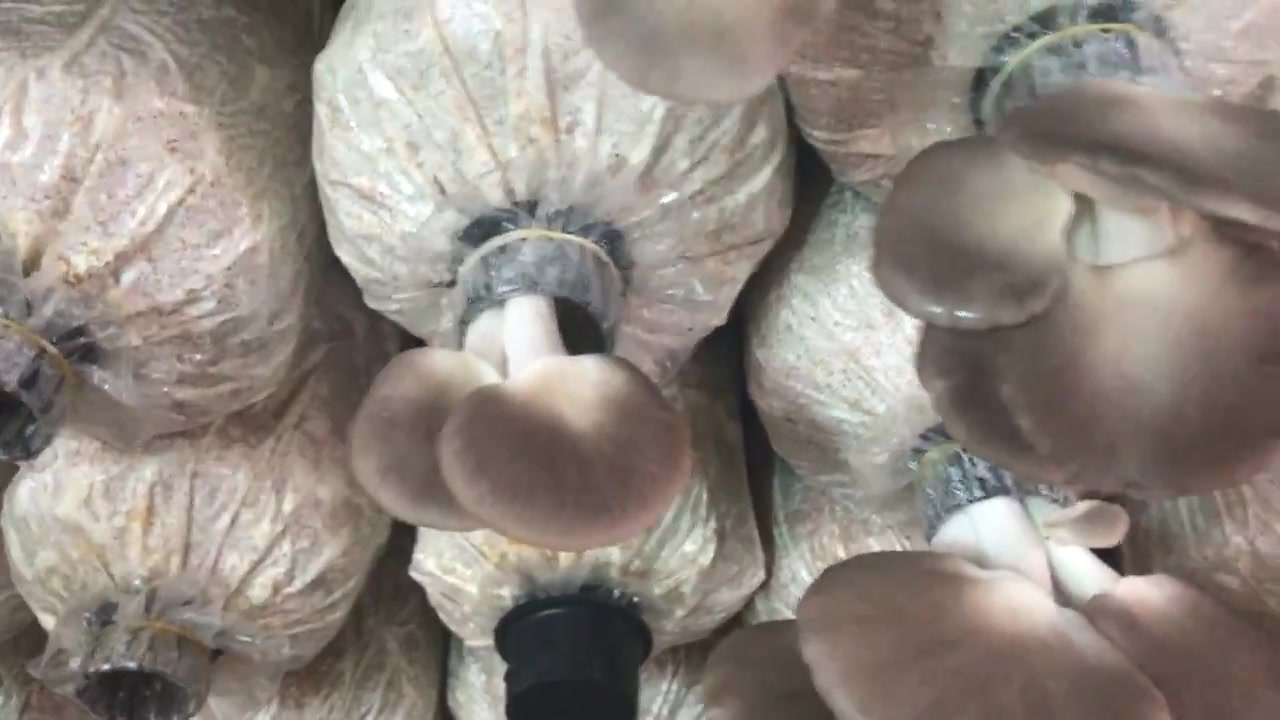nam: (875, 38, 1280, 498), (695, 425, 1280, 719), (352, 225, 693, 549), (578, 1, 832, 107)
